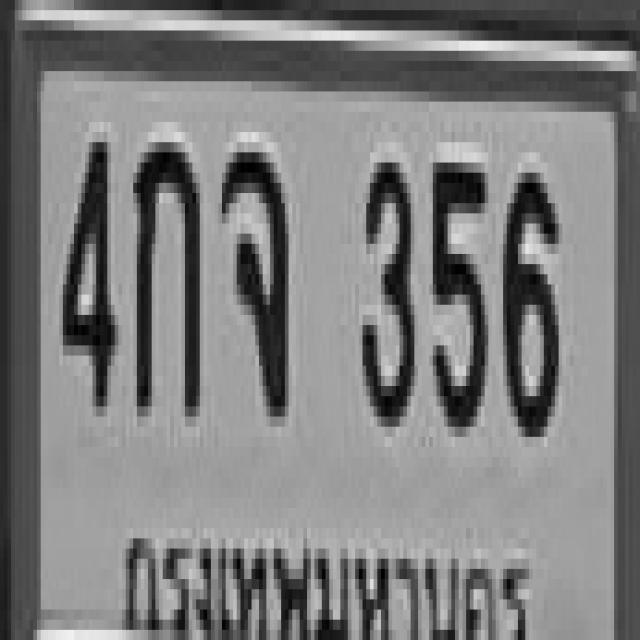10GorGai: (130, 132, 196, 406)
17ChorChan: (218, 142, 285, 406)
3: (358, 152, 411, 416)
4: (59, 132, 111, 406)
5: (429, 152, 485, 427)
6: (499, 162, 555, 426)
Bangkok: (123, 496, 536, 640)
